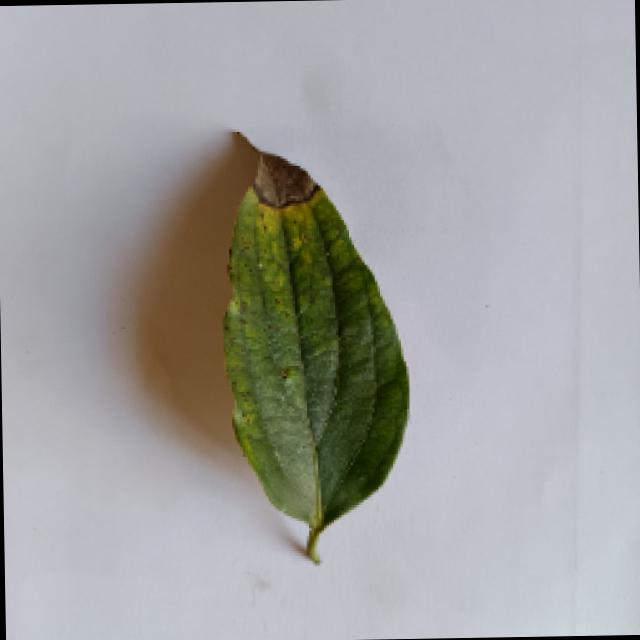footrot: (212, 138, 417, 572)
